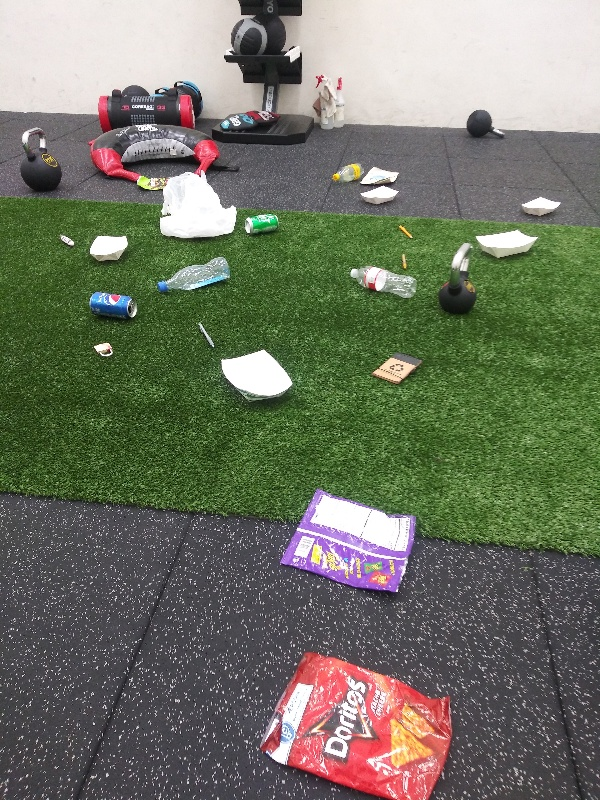bag: (262, 649, 457, 800), (281, 485, 419, 597), (357, 164, 400, 188), (136, 172, 171, 192)
bottle: (152, 254, 235, 295), (346, 264, 422, 301), (329, 159, 368, 184)
can: (88, 291, 141, 320), (243, 208, 284, 238)
plate: (219, 349, 294, 407), (472, 228, 542, 259), (88, 230, 130, 264), (518, 194, 566, 220), (358, 183, 399, 208)
